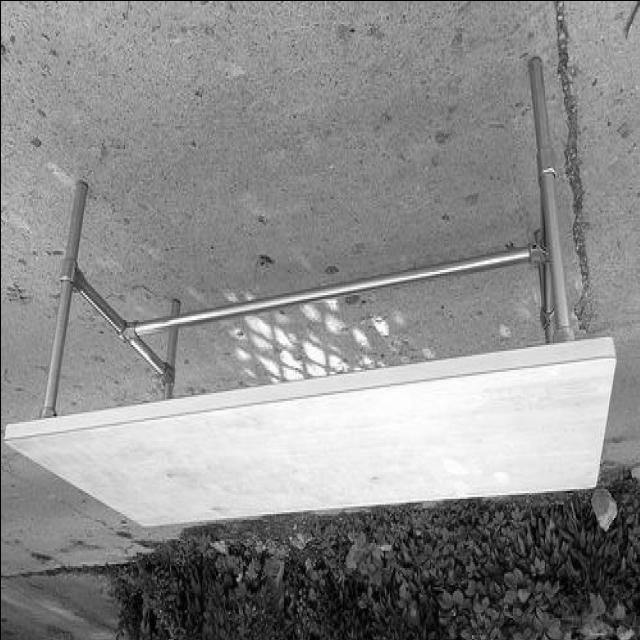table: (5, 58, 615, 527)
